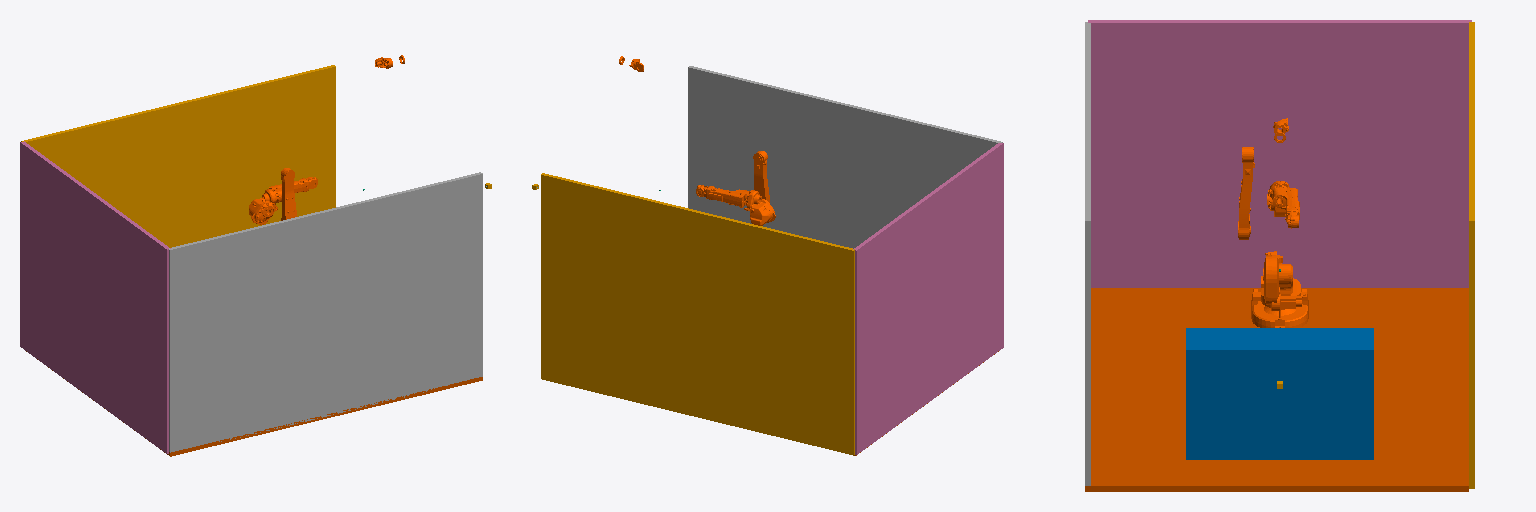
The robot description file, URDF, robot "irb1660_6_155":
<?xml version="1.0" ?>

<robot name="irb1660_6_155" xmlns:xacro="http://ros.org/wiki/xacro">
 
  <!-- robot link list -->
  <link name="base_link">
    <visual>
      <origin rpy="0 0 0" xyz="0 0 0"/>
      <geometry>
        <mesh filename="package://abb_irb1660_support/meshes/base_link.stl"/>
      </geometry>
      <material name="abb_orange">
        <color rgba="1 0.43 0 1"/>
      </material>
    </visual>
    <collision>
      <geometry>
        <mesh filename="package://abb_irb1660_support/meshes/base_link.stl"/>
      </geometry>
      <material name="yellow">
        <color rgba="0 1 1 1"/>
      </material>
    </collision>
  </link>
  <link name="link_1">
    <visual>
      <origin rpy="0 0 0" xyz="0 0 0"/>
      <geometry>
        <mesh filename="package://abb_irb1660_support/meshes/link_1.stl"/>
      </geometry>
      <material name="abb_orange"/>
    </visual>
    <collision>
      <origin rpy="0 0 0" xyz="0 0 0"/>
      <geometry>
        <mesh filename="package://abb_irb1660_support/meshes/link_1.stl"/>
      </geometry>
      <material name="yellow"/>
    </collision>
  </link>
  <link name="link_2">
    <visual>
      <origin rpy="0 0 0" xyz="0 0 0"/>
      <geometry>
        <mesh filename="package://abb_irb1660_support/meshes/link_2.stl"/>
      </geometry>
      <material name="abb_orange"/>
    </visual>
    <collision>
      <origin rpy="0 0 0" xyz="0 0 0"/>
      <geometry>
        <mesh filename="package://abb_irb1660_support/meshes/link_2.stl"/>
      </geometry>
      <material name="yellow"/>
    </collision>
  </link>
  <link name="link_3">
    <visual>
      <origin rpy="0 0 0" xyz="0 0 0"/>
      <geometry>
        <mesh filename="package://abb_irb1660_support/meshes/link_3.stl"/>
      </geometry>
      <material name="abb_orange"/>
    </visual>
    <collision>
      <origin rpy="0 0 0" xyz="0 0 0"/>
      <geometry>
        <mesh filename="package://abb_irb1660_support/meshes/link_3.stl"/>
      </geometry>
      <material name="yellow"/>
    </collision>
  </link>
  <link name="link_4">
    <visual>
      <origin rpy="0 0 0" xyz="0 0 0"/>
      <geometry>
        <mesh filename="package://abb_irb1660_support/meshes/link_4.stl"/>
      </geometry>
      <material name="abb_orange"/>
    </visual>
    <collision>
      <origin rpy="0 0 0" xyz="0 0 0"/>
      <geometry>
        <mesh filename="package://abb_irb1660_support/meshes/link_4.stl"/>
      </geometry>
      <material name="yellow"/>
    </collision>
  </link>
  <link name="link_5">
    <visual>
      <origin rpy="0 0 0" xyz="0 0 0"/>
      <geometry>
        <mesh filename="package://abb_irb1660_support/meshes/link_5.stl"/>
      </geometry>
      <material name="abb_orange"/>
    </visual>
    <collision>
      <origin rpy="0 0 0" xyz="0 0 0"/>
      <geometry>
        <mesh filename="package://abb_irb1660_support/meshes/link_5.stl"/>
      </geometry>
      <material name="yellow"/>
    </collision>
  </link>
  <link name="link_6">
    <visual>
      <origin rpy="0 0 0" xyz="0 0 0"/>
      <geometry>
        <mesh filename="package://abb_irb1660_support/meshes/link_6.stl"/>
      </geometry>
      <material name="abb_orange"/>
    </visual>
    <collision>
      <origin rpy="0 0 0" xyz="0 0 0"/>
      <geometry>
        <mesh filename="package://abb_irb1660_support/meshes/link_6.stl"/>
      </geometry>
      <material name="yellow"/>
    </collision>
  </link>

  <!-- tool link list -->
  <link name="tool0">
  <visual>
      <origin rpy="0 0 0" xyz="0 0 0"/>
      <geometry>
        <mesh filename="package://abb_irb1660_support/meshes/tools/tool_sks_FP8i-L.stl"/>
      </geometry>
      <material name="abb_orange"/>
    </visual>
    <collision>
      <origin rpy="0 0 0" xyz="0 0 0"/>
      <geometry>
        <mesh filename="package://abb_irb1660_support/meshes/tools/tool_sks_FP8i-L.stl"/>
      </geometry>
      <material name="yellow"/>
    </collision>
  </link>

  <!-- camera link list -->
  <link name="camera_link">
  <visual>
    <origin rpy="0 0 0" xyz="0 0 0"/>
    <geometry>
      <box size="0.05 0.05 0.05"/>
    </geometry>
    </visual>
    <material name="Cyan">
      <color rgba="0 1.0 0 1.0"/>
    </material>
  </link>
  <link name="camera_optical_frame">
  <visual>
      <origin rpy="0 0 0" xyz="0.0 0.0 0"/>
      <geometry>
        <sphere radius="0.005"/>
      </geometry>
    </visual>
  </link>
  <link name="led_link">
  <visual>
      <origin rpy="0 0 0" xyz="0 0 -0.057"/>
      <geometry>
        <sphere radius="0.01"/>
      </geometry>
    </visual>
  </link>
  <!-- end of link list -->

  <!-- robot joint list -->
  <joint name="joint_1" type="revolute">
    <origin rpy="0 0 0" xyz="0 0 0.124"/>
    <parent link="base_link"/>
    <child link="link_1"/>
    <axis xyz="0 0 1"/>
    <limit effort="0" lower="-3.14159" upper="3.14159" velocity="3.14159"/>
  </joint>
  <joint name="joint_2" type="revolute">
    <origin rpy="0 0 0" xyz="0.15 -0.107 0.3625"/>
    <parent link="link_1"/>
    <child link="link_2"/>
    <axis xyz="0 1 0"/>
    <limit effort="0" lower="-1.5708" upper="2.61799" velocity="3.14159"/>
  </joint>
  <joint name="joint_3" type="revolute">
    <origin rpy="0 0 0" xyz="0 0 0.7"/>
    <parent link="link_2"/>
    <child link="link_3"/>
    <axis xyz="0 1 0"/>
    <limit effort="0" lower="-4.15388" upper="1.37881" velocity="3.14159"/>
  </joint>
  <joint name="joint_4" type="revolute">
    <origin rpy="0 0 0" xyz="0.128 0.107 0.108"/>
    <parent link="link_3"/>
    <child link="link_4"/>
    <axis xyz="1 0 0"/>
    <limit effort="0" lower="-3.05433" upper="3.05433" velocity="5.58505"/>
  </joint>
  <joint name="joint_5" type="revolute">
    <origin rpy="0 0 0" xyz="0.55 0 0"/>
    <parent link="link_4"/>
    <child link="link_5"/>
    <axis xyz="0 1 0"/>
    <limit effort="0" lower="-2.0944" upper="2.0944" velocity="6.28319"/>
  </joint>
  <joint name="joint_6" type="revolute">
    <origin rpy="0.0 0 0" xyz="0.135 0 0"/>
    <parent link="link_5"/>
    <child link="link_6"/>
    <axis xyz="1 0 0"/>
    <limit effort="0" lower="-6.98132" upper="6.98132" velocity="8.72665"/>
  </joint>

  <!-- tool joint list -->
  <joint name="joint_6-tool0" type="fixed">
    <parent link="link_6"/>
    <child link="tool0"/>
    <origin rpy="0 0 0" xyz="0 0 0"/>
  </joint>
  
  
  <!-- camera joint list -->
  <joint name="camera_joint" type="fixed">
    <origin rpy="0 -3.14159 0" xyz="3.02 0 0.79"/>
    <parent link="base_link" />
    <child link="camera_link" />
  </joint>
  <joint name="camera_optical_joint" type="fixed">
    <origin rpy="0 0 0" xyz="0.025 0 0"/>
    <parent link="camera_link" />
    <child link="camera_optical_frame" />
  </joint>
  <joint name="led_joint" type="fixed">
    <origin rpy="0 0 0" xyz="0.463 0.0 -0.120"/>
    <parent link="tool0" />
    <child link="led_link" />
  </joint>
  <!-- end of joint list -->


  <!-- object placement -->
  <!-- object link list -->
  <link name="front_of_cel_link"/>

  <link name="external_axis_object">
    <visual>
      <origin rpy="0 0 0" xyz="0 0 0.525"/>
      <geometry>
        <box size="0.45 1.60 1.05"/>
      </geometry>
    </visual>
    <material name="Blue">
      <color rgba="0 0 1.0 1.0"/>
    </material>
    <collision>
      <origin rpy="0 0 0" xyz="0 0 0.525"/>
      <geometry>
        <box size="0.45 1.60 1.05"/>
      </geometry>
      <material name="Blue"/>
    </collision>
  </link>

   <link name="ground_object">
    <visual>
      <origin rpy="1.5708 0 0" xyz="0 -0.025 0"/>
      <geometry>
        <box size="4 0.05 3.25"/>
      </geometry>
    </visual>
    <material name="Cyan">
      <color rgba="0 255 0 0.3"/>
    </material>
    <collision>
      <origin rpy="1.5708  0 0" xyz="0 -0.025 0"/>
      <geometry>
        <box size="4 0.05 3.25"/>
      </geometry>
      <material name="Cyan">
      <color rgba="0 255 0 0.3"/>
    </material>
    </collision>
  </link>
   
  
  <link name="wall_back_object">
    <visual>
      <origin rpy="0 0 1.5708" xyz="0 0 1.25"/>
      <geometry>
        <box size="3.25 0.05 2.5"/>
      </geometry>
    </visual>
    <material name="Cyan">
      <color rgba="0 255 0 0.3"/>
    </material>
    <collision>
      <origin rpy="0 0 1.5708" xyz="0 0 1.25"/>
      <geometry>
        <box size="3.25 0.05 2.5"/>
      </geometry>
      <material name="Cyan">
      <color rgba="0 255 0 0.3"/>
    </material>
    </collision>
  </link>
  
  
  <link name="wall_left_object">
    <visual>
      <origin rpy="0 0 0" xyz="-2 0 1.25"/>
      <geometry>
        <box size="4 0.05 2.5"/>
      </geometry>
    </visual>
    <material name="Cyan">
      <color rgba="0 255 0 0.3"/>
    </material>
    <collision>
      <origin rpy="0 0 0" xyz="-2 0 1.25"/>
      <geometry>
        <box size="4 0.05 2.5"/>
      </geometry>
      <material name="Cyan">
      <color rgba="0 255 0 0.3"/>
    </material>
    </collision>
  </link>
  <link name="wall_right_object">
    <visual>
      <origin rpy="0 0 0" xyz="-2 0 1.25"/>
      <geometry>
        <box size="4 0.05 2.5"/>
      </geometry>
    </visual>
    <material name="Cyan">
      <color rgba="0 255 0 0.3"/>
    </material>
    <collision>
      <origin rpy="0 0 0" xyz="-2 0 1.25"/>
      <geometry>
        <box size="4 0.05 2.5"/>
      </geometry>
      <material name="Cyan">
      <color rgba="0 255 0 0.3"/>
    </material>
    </collision>
  </link>

  <!--object joint list -->
  <joint name="front_of_cel_joint" type="fixed">
    <origin rpy="0 0 0" xyz="2 0 -0.655"/>
    <parent link="base_link" />
    <child link="front_of_cel_link" />
  </joint>

  <joint name="external_axis_joint" type="fixed">
    <origin rpy="0 0 0" xyz="-0.75 0 0"/>
    <parent link="front_of_cel_link" />
    <child link="external_axis_object" />
  </joint>

  <joint name="ground_joint" type="fixed">
    <origin rpy="0 0 0" xyz="-2 0 0"/>
    <parent link="front_of_cel_link" />
    <child link="ground_object" />
  </joint>
  
  <joint name="front_to_back_wall_joint" type="fixed">
    <origin rpy="0 0 0" xyz="-4 0 0"/>
    <parent link="front_of_cel_link" />
    <child link="wall_back_object" />
  </joint>
  
  <joint name="front_to_left_wall_joint" type="fixed">
    <origin rpy="0 0 0" xyz="0 -1.625 0"/>
    <parent link="front_of_cel_link" />
    <child link="wall_left_object" />
  </joint>
  
  <joint name="front_to_right_wall_joint" type="fixed">
    <origin rpy="0 0 0" xyz="0 1.625 0"/>
    <parent link="front_of_cel_link" />
    <child link="wall_right_object" />
  </joint>
  <!--end of object placement -->
  
</robot>

--- Facts derived from the render (not from the file) ---
3 views of the same robot in one strip: view 1: azimuth 30°, elevation 25°; view 2: azimuth 150°, elevation 25°; view 3: azimuth 270°, elevation 25° (orthographic).
Robot: irb1660_6_155 — 17 links, 16 joints (6 revolute, 10 fixed); root link base_link; default pose: every joint at zero.
Visible links, largest first — view 1: wall_left_object, wall_right_object, wall_back_object, ground_object, link_3, link_2; view 2: wall_right_object, wall_left_object, wall_back_object, link_3, link_4, link_2; view 3: wall_back_object, ground_object, external_axis_object, wall_right_object, wall_left_object, link_1, base_link, link_2, link_4.
Boxes of the visible links, x1,y1,x2,y2 form: wall_left_object: (169,172,482,452); wall_right_object: (21,65,335,247); wall_back_object: (20,141,170,453); ground_object: (26,351,482,456); link_3: (249,189,278,224); link_2: (281,168,296,220); wall_right_object: (541,173,854,455); wall_left_object: (688,66,1002,248); wall_back_object: (853,143,1003,454); link_3: (744,190,775,225); link_4: (696,185,748,207); link_2: (753,151,769,202); wall_back_object: (1088,20,1471,287); ground_object: (1085,288,1468,491); external_axis_object: (1186,328,1373,459); wall_right_object: (1469,22,1474,488); wall_left_object: (1085,22,1090,485); link_1: (1261,251,1302,310); base_link: (1251,289,1308,327); link_2: (1238,147,1254,239); link_4: (1270,187,1299,228).
Size in the robot's own frame: 5.07 by 3.3 by 3.33 metres.
Meshes: 8 distinct files referenced, 7 mesh visuals loaded (4 binary STL, 3 ASCII STL); not drawn: 1 (reference not matched to a file when rendering).